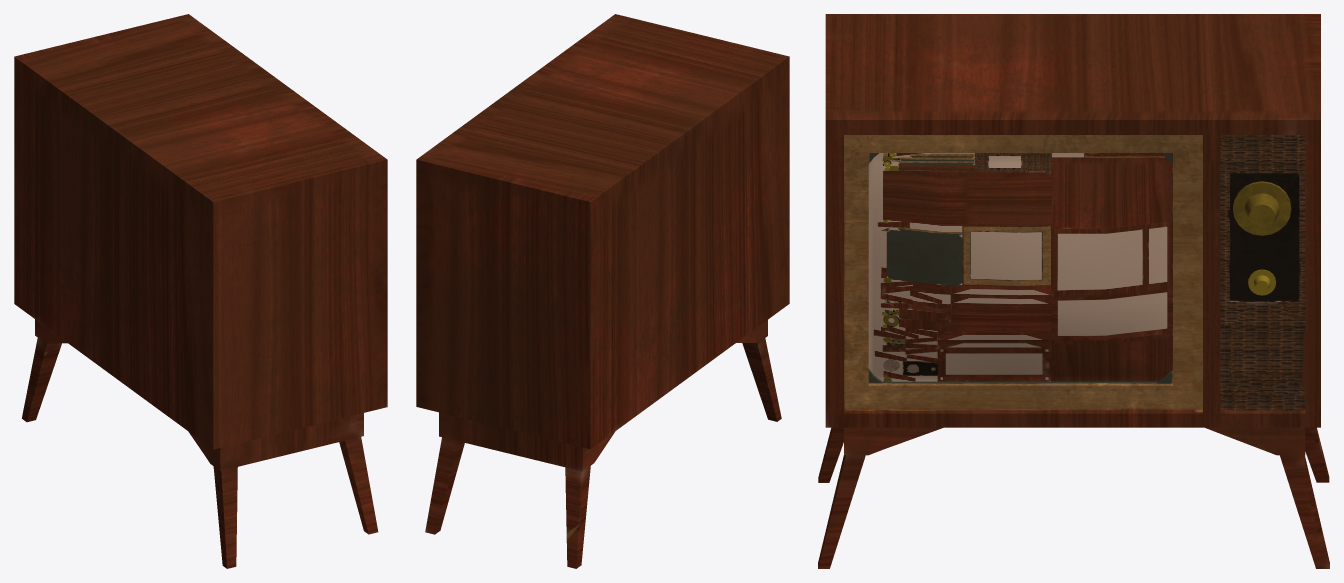
File: matt_tv.fbx
The picture shows the model from 3 angles, left to right: view 1: azimuth 30°, elevation 25°; view 2: azimuth 150°, elevation 25°; view 3: azimuth 270°, elevation 25°; orthographic projection. The views are drawn at different scales.
Visible parts, largest first — view 1: Tv_Screen; view 2: Tv_Screen; view 3: Tv_Screen, Tv_Body.
Boxes of the visible parts, x1=… form: Tv_Screen: x1=14, y1=14, x2=387, y2=568; Tv_Screen: x1=416, y1=14, x2=789, y2=568; Tv_Screen: x1=818, y1=14, x2=1329, y2=568; Tv_Body: x1=868, y1=153, x2=1172, y2=381.
Size of the model in its own units: 8.39 by 16.34 by 16.6.
